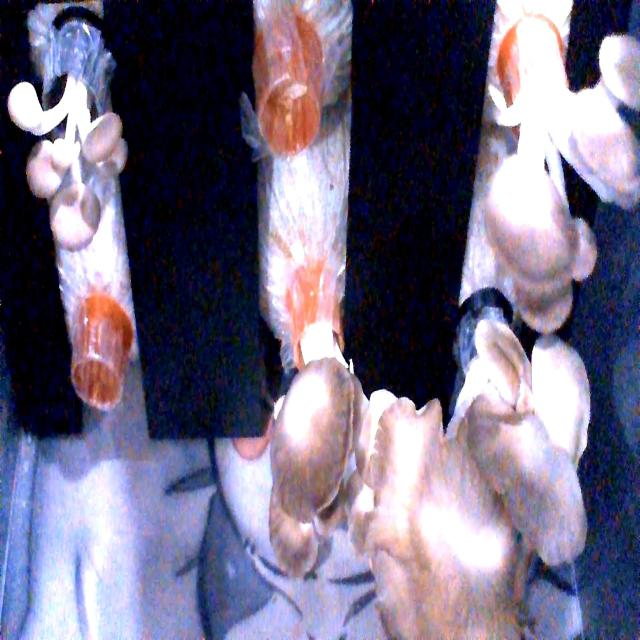big: (356, 375, 602, 638), (487, 70, 634, 339), (267, 348, 398, 580)
nfound: (58, 344, 137, 439), (256, 65, 323, 164)
small: (2, 71, 148, 266)
